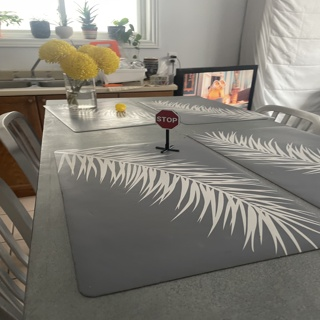sign_stop: (155, 107, 178, 130)
